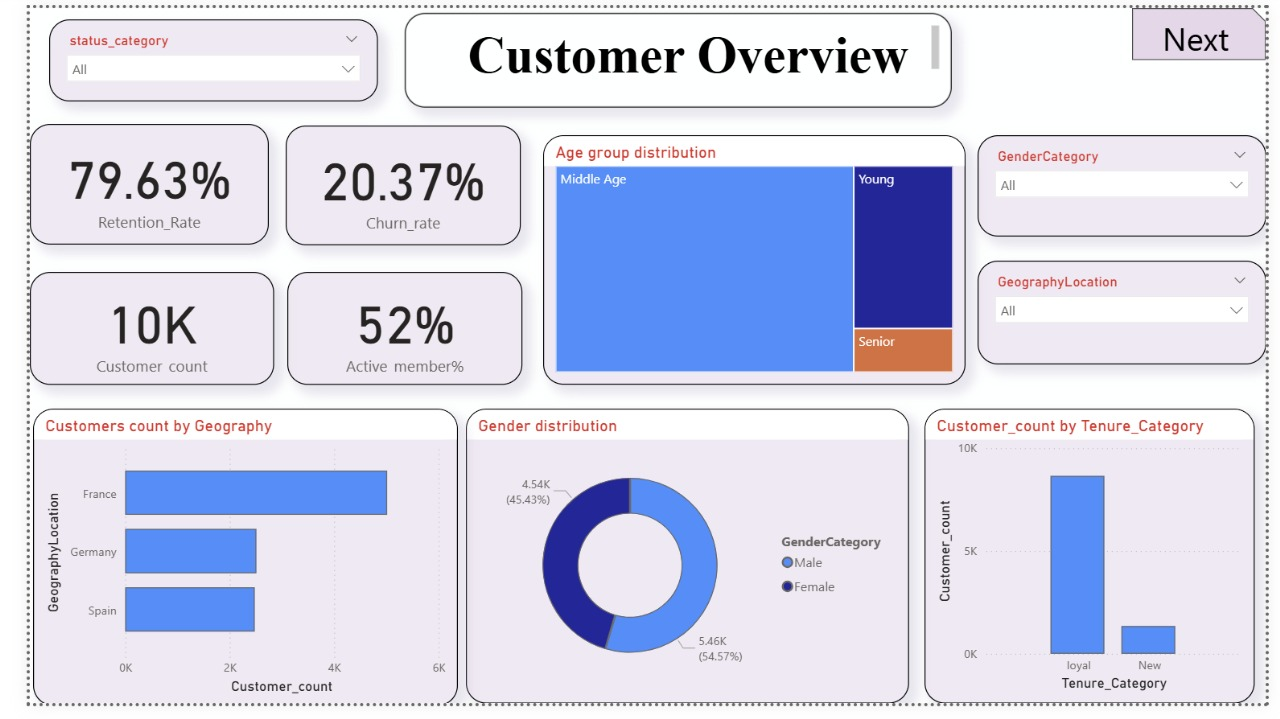

The page's visual inventory and layout, read from the dashboard file:
{"tool":"powerbi","page":{"name":"Page 1","canvas":[1280,720],"ordinal":0},"visuals":[{"type":"card","fields":{"Values":["ActiveCustomer.Coustomer_count"]},"box":[0,273.2,253,117.1],"z":0},{"type":"card","fields":{"Values":["Bank_Churn.Retention_Rate"]},"box":[0,119.8,247.6,125.2],"z":1000},{"type":"card","fields":{"Values":["Bank_Churn.Active_member%"]},"box":[266.5,273.2,243.6,117.1],"z":2000},{"type":"donutChart","title":"Gender distribution ","fields":{"Category":["Gender.GenderCategory"],"Y":["CountNonNull(Bank_Churn.CustomerId)"]},"box":[450.8,414.5,458.9,305.5],"z":3000},{"type":"barChart","title":"Customers count by Geography","fields":{"Category":["Geography.GeographyLocation"],"Y":["ActiveCustomer.Coustomer_count"]},"box":[4,414.5,440.1,308.2],"z":4000},{"type":"treemap","title":"Age group distribution","fields":{"Group":["Bank_Churn.Age_Category"],"Values":["ActiveCustomer.Customer_count"]},"box":[531.6,131.9,437.4,258.4],"z":5000},{"type":"textbox","box":[388.9,5.4,566.6,98.2],"z":6000},{"type":"slicer","fields":{"Values":["Geography.GeographyLocation"]},"box":[981.1,261.1,298.8,107.7],"z":7000},{"type":"slicer","fields":{"Values":["Gender.GenderCategory"]},"box":[981.1,131.9,298.8,105],"z":8000},{"type":"slicer","fields":{"Values":["Bank_Churn.status_category"]},"box":[20.2,12.1,340.5,84.8],"z":9000},{"type":"shape","box":[1141.2,0,138.6,53.8],"z":10000},{"type":"columnChart","fields":{"Y":["ActiveCustomer.Customer_count"],"Category":["Bank_Churn.Tenure_Category"]},"box":[925.9,414.5,341.8,305.5],"z":11000},{"type":"card","fields":{"Values":["Bank_Churn.Churn_rate"]},"box":[265.1,121.1,243.6,123.8],"z":12000}]}

Visuals, with their boxes in screenshot pixels (x1, y1, x2, y2), scaled from the page's 1280x720 canvas onto the 1280x719 screenshot:
card - ActiveCustomer.Coustomer_count: x1=0 y1=273 x2=253 y2=390
card - Bank_Churn.Retention_Rate: x1=0 y1=120 x2=248 y2=245
card - Bank_Churn.Active_member%: x1=266 y1=273 x2=510 y2=390
"Gender distribution " donutChart: x1=451 y1=414 x2=910 y2=718
"Customers count by Geography" barChart: x1=4 y1=414 x2=444 y2=718
"Age group distribution" treemap: x1=532 y1=132 x2=969 y2=390
textbox: x1=389 y1=5 x2=956 y2=103
slicer - Geography.GeographyLocation: x1=981 y1=261 x2=1279 y2=368
slicer - Gender.GenderCategory: x1=981 y1=132 x2=1279 y2=237
slicer - Bank_Churn.status_category: x1=20 y1=12 x2=361 y2=97
shape: x1=1141 y1=0 x2=1279 y2=54
columnChart - ActiveCustomer.Customer_count x Bank_Churn.Tenure_Category: x1=926 y1=414 x2=1268 y2=718
card - Bank_Churn.Churn_rate: x1=265 y1=121 x2=509 y2=245
